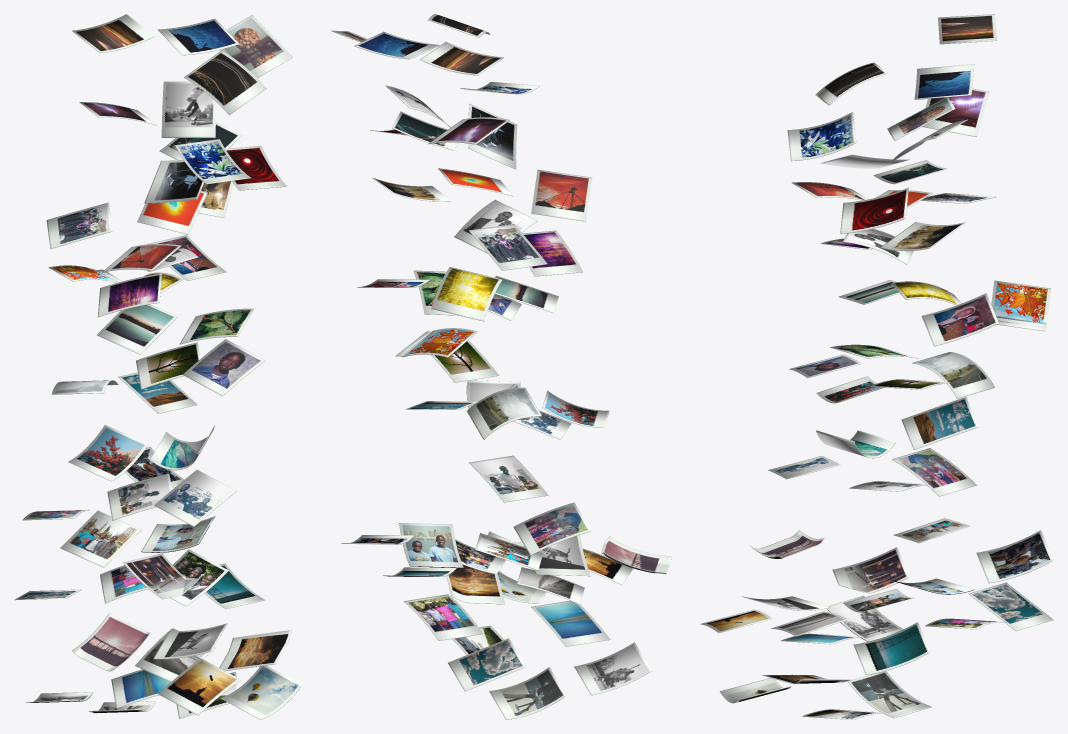
Rendered from polaroid-layout-transformed.glb.
3 renders of one model, left to right at view 1: azimuth 30°, elevation 25°; view 2: azimuth 150°, elevation 25°; view 3: azimuth 270°, elevation 25°, orthographic. The views are drawn at different scales.
Parts seen in each view (by area): view 1: photo_tree, photo_skate3, photo_family6, photo_stars2, photo_family5, photo_family9, photo_kid, photo_boardsky, photo_flowers, photo_bridge, photo_balloons, photo_snails (+31 smaller); view 2: photo_tree, photo_family6, photo_oil, photo_lightning, photo_clouds, photo_family7, photo_bench, photo_5050, photo_hills, photo_me2, photo_family8, photo_family2 (+26 smaller); view 3: photo_tree, photo_leaves, photo_field, photo_kid2, photo_family4, photo_beach, photo_family6, photo_purple plant, photo_boardslide, photo_clouds, photo_orb, photo_family7 (+25 smaller).
Part boxes in pixels (box(x1,y1,x2,y2)): photo_tree: box(22, 18, 292, 567); photo_skate3: box(161, 81, 216, 137); photo_family6: box(14, 516, 302, 719); photo_stars2: box(184, 50, 266, 115); photo_family5: box(60, 510, 141, 567); photo_family9: box(154, 469, 236, 526); photo_kid: box(183, 339, 265, 395); photo_boardsky: box(158, 658, 240, 714); photo_flowers: box(68, 425, 148, 480); photo_bridge: box(72, 613, 149, 670); photo_balloons: box(221, 665, 301, 719); photo_snails: box(221, 14, 292, 77); photo_tree: box(331, 20, 608, 570); photo_family6: box(383, 523, 671, 719); photo_oil: box(531, 169, 592, 221); photo_lightning: box(431, 267, 502, 321); photo_clouds: box(448, 638, 525, 691); photo_family7: box(513, 502, 591, 555); photo_bench: box(574, 642, 651, 694); photo_5050: box(489, 667, 566, 719); photo_hills: box(466, 387, 541, 439); photo_me2: box(469, 224, 547, 270); photo_family8: box(469, 455, 548, 502); photo_family2: box(404, 594, 482, 640); photo_tree: box(768, 40, 1052, 583); photo_leaves: box(991, 280, 1050, 330); photo_field: box(901, 397, 978, 449); photo_kid2: box(922, 293, 998, 345); photo_family4: box(976, 530, 1052, 582); photo_beach: box(854, 622, 929, 674); photo_family6: box(700, 538, 1053, 719); photo_purple plant: box(787, 112, 855, 160); photo_boardslide: box(832, 547, 908, 592); photo_clouds: box(968, 582, 1053, 630); photo_orb: box(840, 187, 908, 233); photo_family7: box(892, 448, 976, 496).
Size of what is drawn, in the model's own units: 0.5354 by 1.19 by 0.5477.
Materials: 49 (49 with a texture image).
